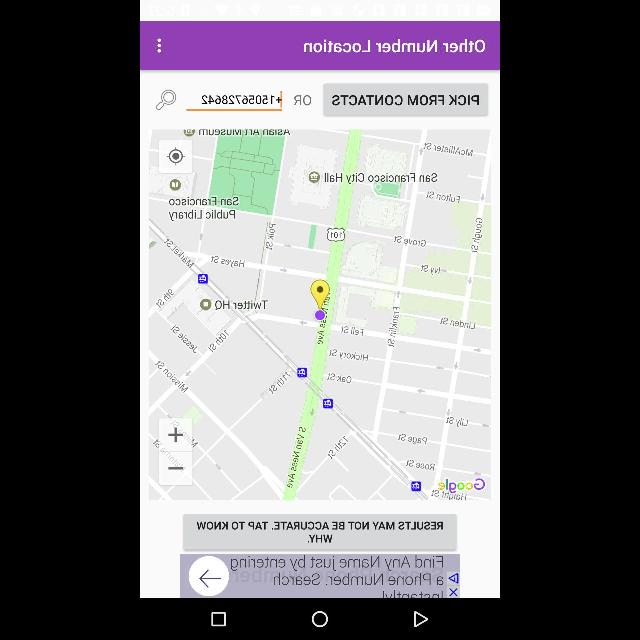icon: (156, 90, 176, 112), (311, 610, 329, 628), (413, 610, 429, 628), (210, 612, 226, 626), (156, 36, 162, 54)
iframe: (180, 554, 460, 598)
map: (148, 130, 492, 500)
panel: (141, 598, 499, 640)
text: (303, 37, 487, 54), (198, 520, 444, 530), (332, 93, 478, 107), (201, 94, 281, 106), (308, 534, 332, 544), (294, 94, 312, 106)
textbutton: (322, 85, 488, 117)
toolbar: (141, 22, 499, 70)
uppertaskbar: (140, 1, 500, 22)
